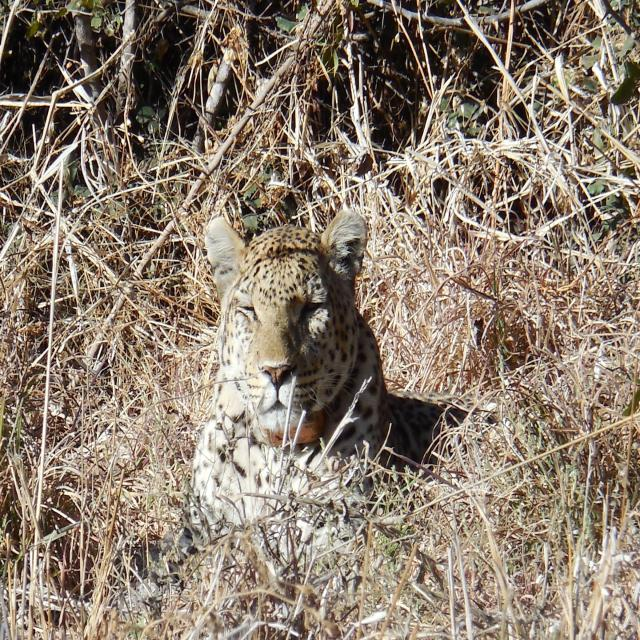Leopard: (218, 219, 422, 502)
